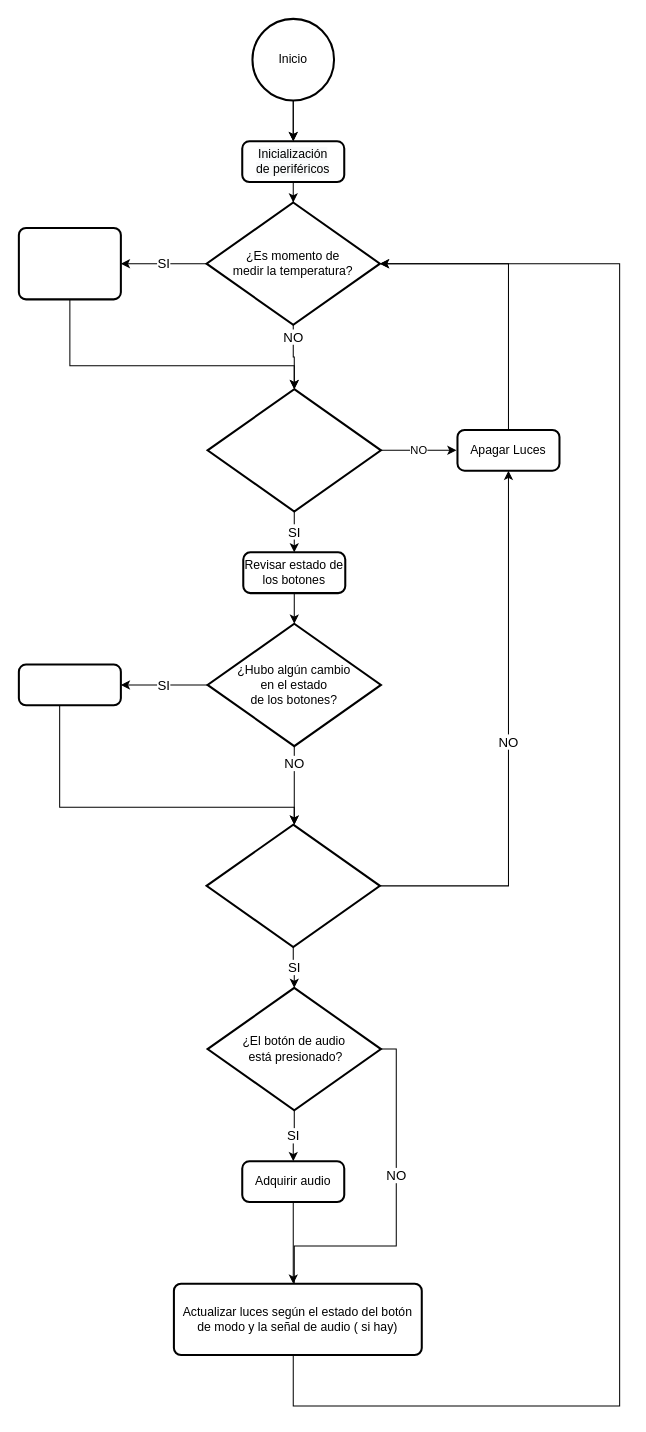
Image size: 646x1432. Some labels were removed from this diagram. Here are the shapes that lost their labels. From the top down, the centre of each, then its label:
point 69,263: Medir temperatura y enviar mensaje de debug
point 293,450: ¿Se está dentro del rango de temperatura permitido?
point 69,684: Guardar estados en memoria
point 292,885: ¿El botón de encendido está presionado?
